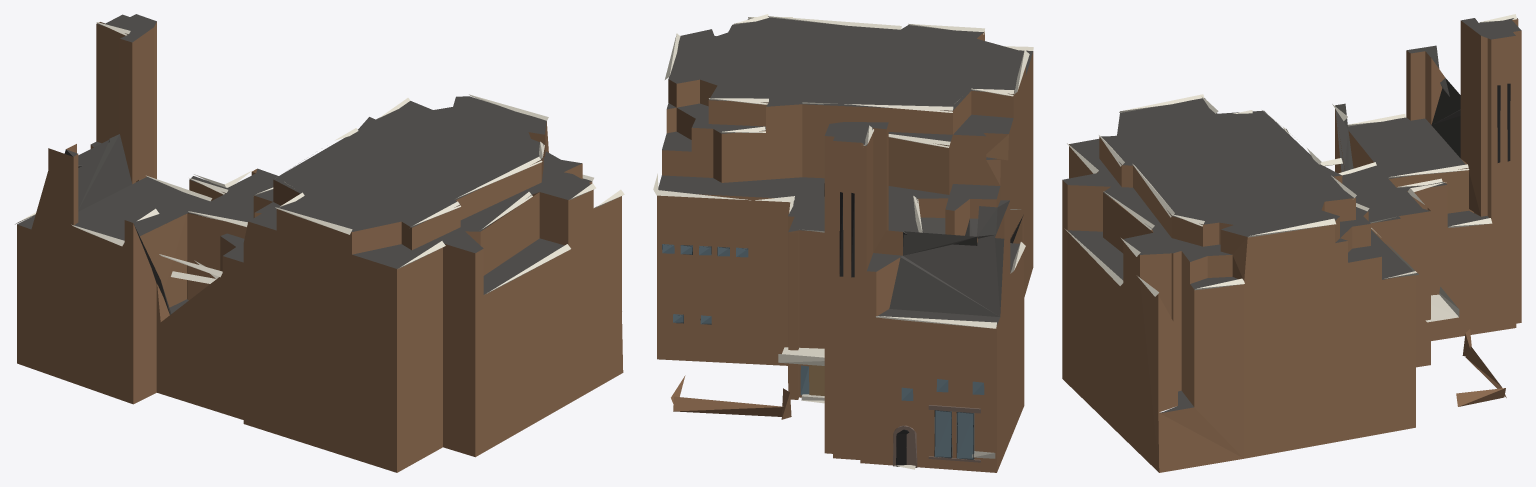
The model's file is aron-schuster-synagoge.lod1.glb.
3 renders of one model, left to right at view 1: azimuth 30°, elevation 25°; view 2: azimuth 150°, elevation 25°; view 3: azimuth 270°, elevation 25°, orthographic. The views are drawn at different scales.
Visible parts, largest first — view 1: aron-schuster-synagoge; view 2: aron-schuster-synagoge; view 3: aron-schuster-synagoge.
Part boxes in pixels (x1=…): aron-schuster-synagoge: x1=15, y1=14, x2=624, y2=472; aron-schuster-synagoge: x1=653, y1=14, x2=1033, y2=472; aron-schuster-synagoge: x1=1062, y1=14, x2=1521, y2=472.
Size of the model in its own units: 35.27 by 22.78 by 32.19.
